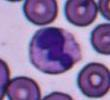N: (29, 27, 80, 74)
